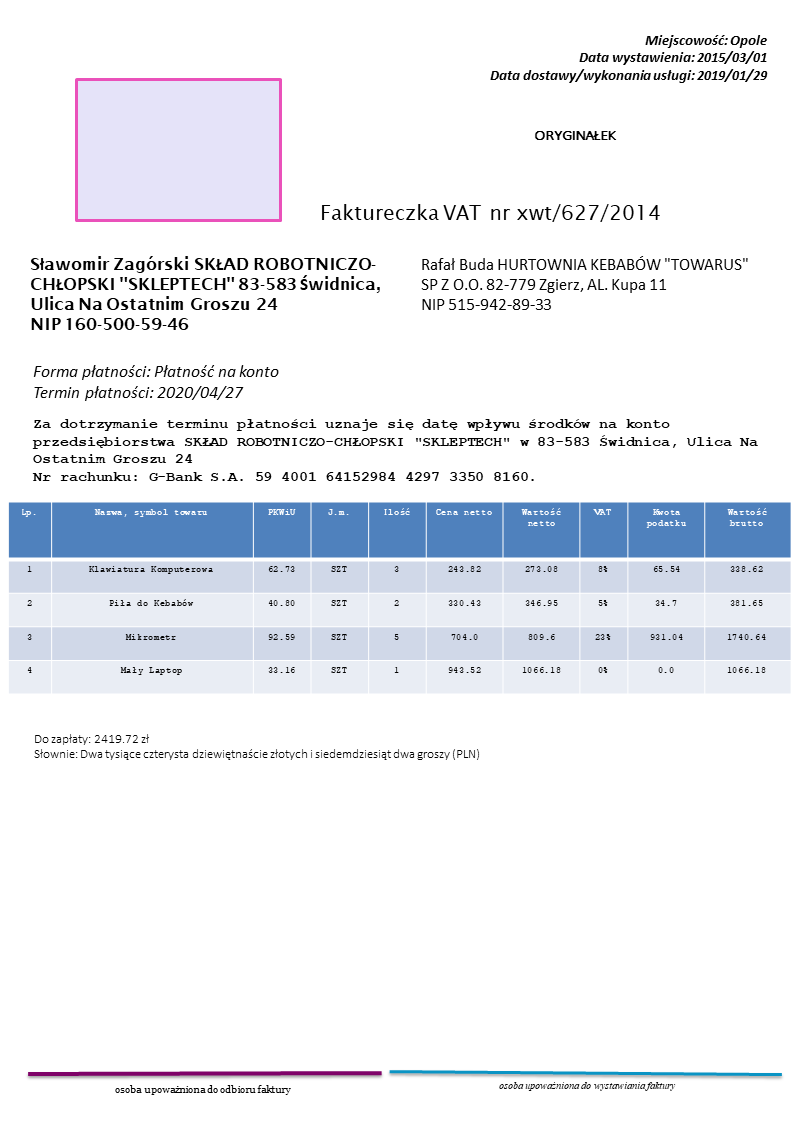Table: (6, 500, 794, 696)
TextBox: (28, 415, 763, 485), (25, 251, 385, 335), (417, 254, 751, 314), (487, 30, 768, 86), (30, 731, 482, 763), (29, 360, 284, 402), (317, 199, 662, 227), (112, 1081, 293, 1098), (496, 1079, 678, 1093), (531, 126, 617, 145)
